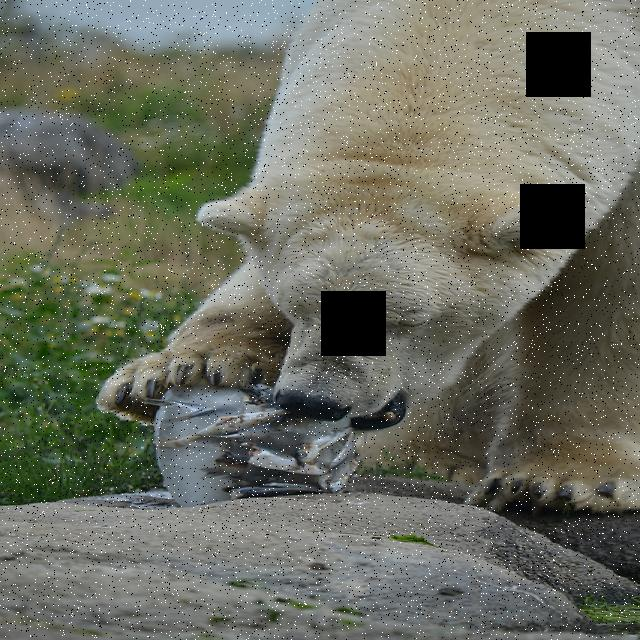Bear: (114, 0, 640, 517)
